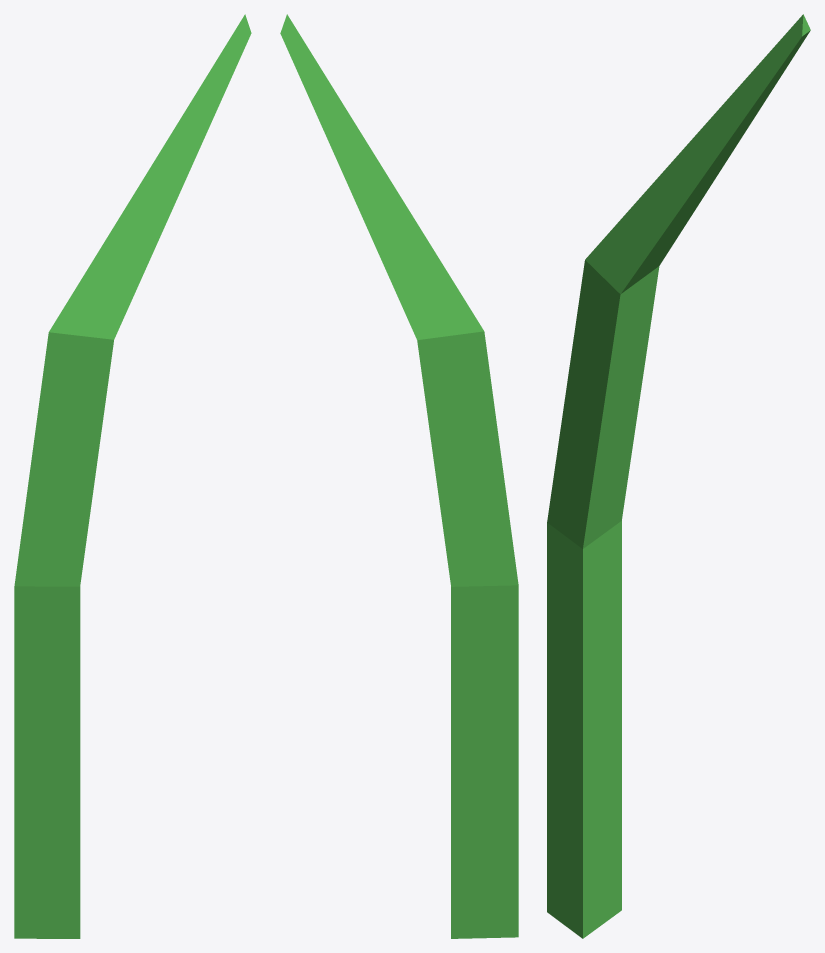
The model's file is blade_t3.glb.
The picture shows the model from 3 angles, left to right: view 1: azimuth 30°, elevation 25°; view 2: azimuth 150°, elevation 25°; view 3: azimuth 330°, elevation 25°; orthographic projection. The views are drawn at different scales.
Parts seen in each view (by area): view 1: 3t; view 2: 3t; view 3: 3t.
Boxes of the visible parts, <box> form: 3t: <box>14,14,251,938</box>; 3t: <box>280,14,518,938</box>; 3t: <box>547,14,810,938</box>.
Bounding box in the file's own units: 0.2138 × 0.7583 × 0.0558.
